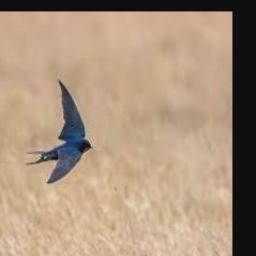Swallow: (27, 79, 92, 182)
